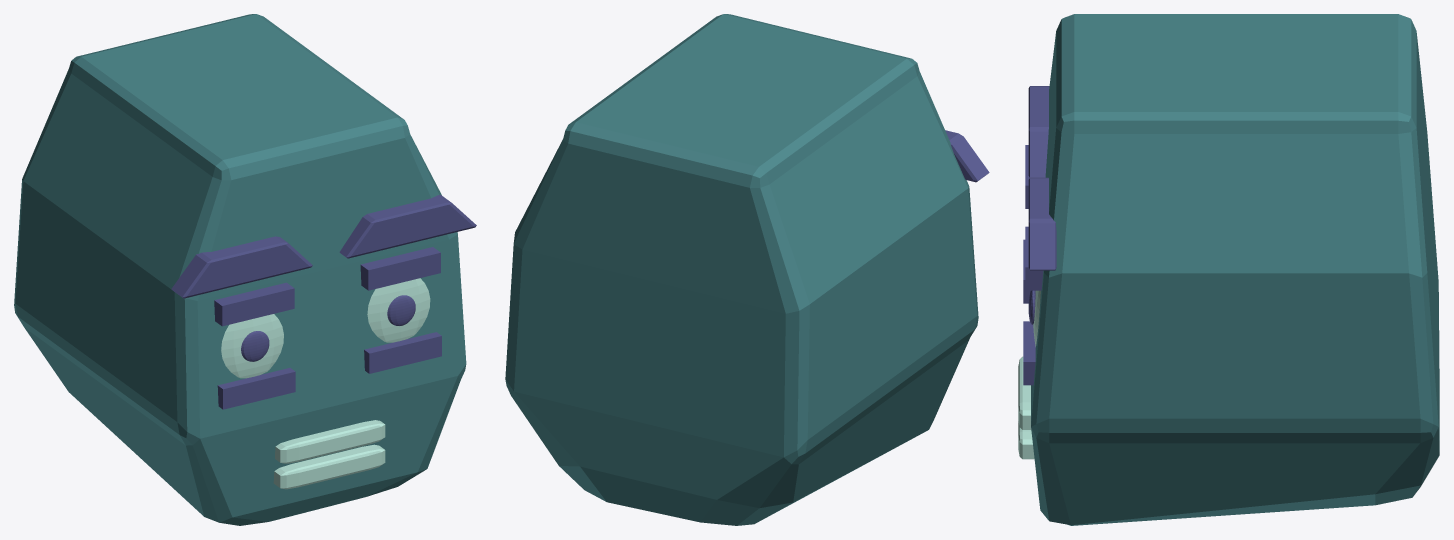
File: RobotHead.glb
The picture shows the model from 3 angles, left to right: view 1: azimuth 30°, elevation 25°; view 2: azimuth 150°, elevation 25°; view 3: azimuth 270°, elevation 25°; orthographic projection. The views are drawn at different scales.
Visible parts, largest first — view 1: Cube.005; view 2: Cube.005; view 3: Cube.005.
Boxes of the visible parts, x1=… form: Cube.005: x1=14, y1=14, x2=476, y2=525; Cube.005: x1=505, y1=14, x2=989, y2=525; Cube.005: x1=1018, y1=14, x2=1439, y2=525.
Bounding box in the file's own units: 2.01 × 2.41 × 2.18.
